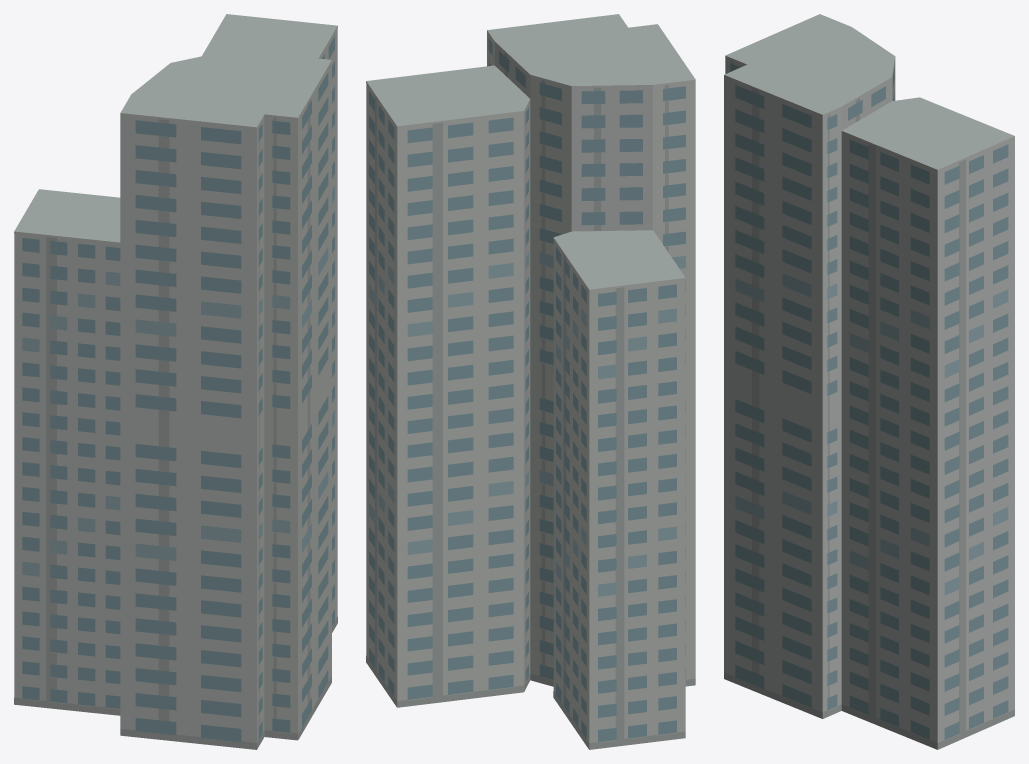
File: residential-21877bbf-ba70-4691-b77d-93f40a58fa79.glb
The picture shows the model from 3 angles, left to right: view 1: azimuth 30°, elevation 25°; view 2: azimuth 150°, elevation 25°; view 3: azimuth 270°, elevation 25°; orthographic projection. The views are drawn at different scales.
Visible parts, largest first — view 1: residential-21877bbf-ba70-4691-b77d-93f40a58fa79.tmp; view 2: residential-21877bbf-ba70-4691-b77d-93f40a58fa79.tmp; view 3: residential-21877bbf-ba70-4691-b77d-93f40a58fa79.tmp.
Part boxes in pixels (left/top/right/bottom): residential-21877bbf-ba70-4691-b77d-93f40a58fa79.tmp: left=14, top=14, right=337, bottom=749; residential-21877bbf-ba70-4691-b77d-93f40a58fa79.tmp: left=366, top=14, right=695, bottom=749; residential-21877bbf-ba70-4691-b77d-93f40a58fa79.tmp: left=724, top=14, right=1014, bottom=749.
Bounding box in the file's own units: 41.8 × 76.25 × 33.27.
